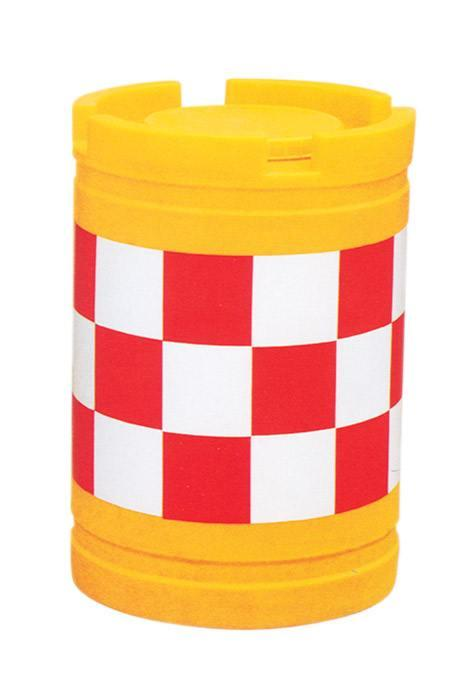sign: (51, 60, 415, 626)
